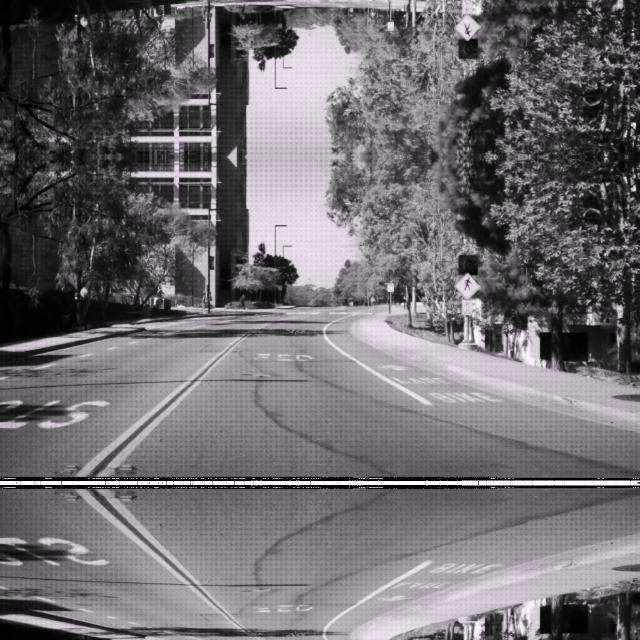pedestrianCrossing: (454, 270, 481, 298), (454, 14, 481, 42)
